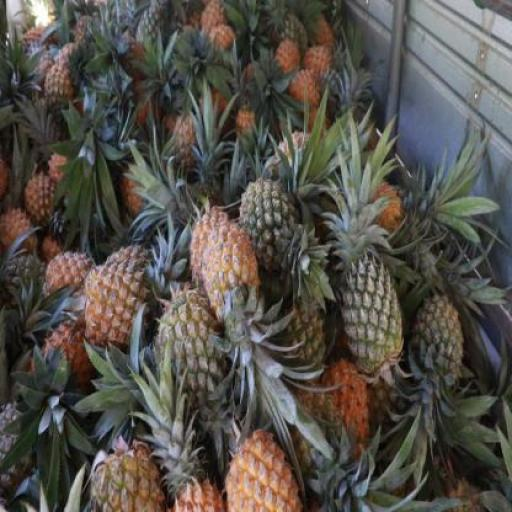------------------------------: (154, 292, 224, 400), (240, 182, 304, 281), (89, 443, 161, 512), (42, 65, 76, 123)
Pineapple - v8 v1: (84, 248, 154, 349), (222, 428, 300, 511), (204, 229, 264, 331), (190, 211, 238, 299), (45, 247, 92, 308), (24, 174, 62, 228)
